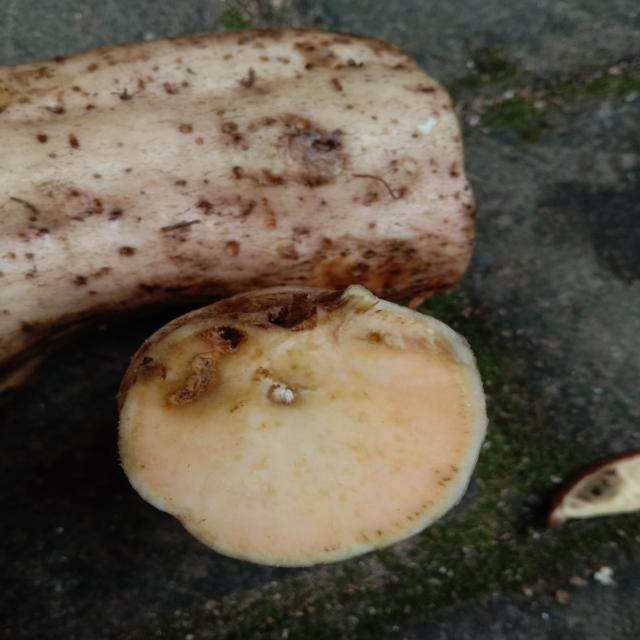Sick Sweet Potato_Tuber Rot: (118, 285, 487, 566)
